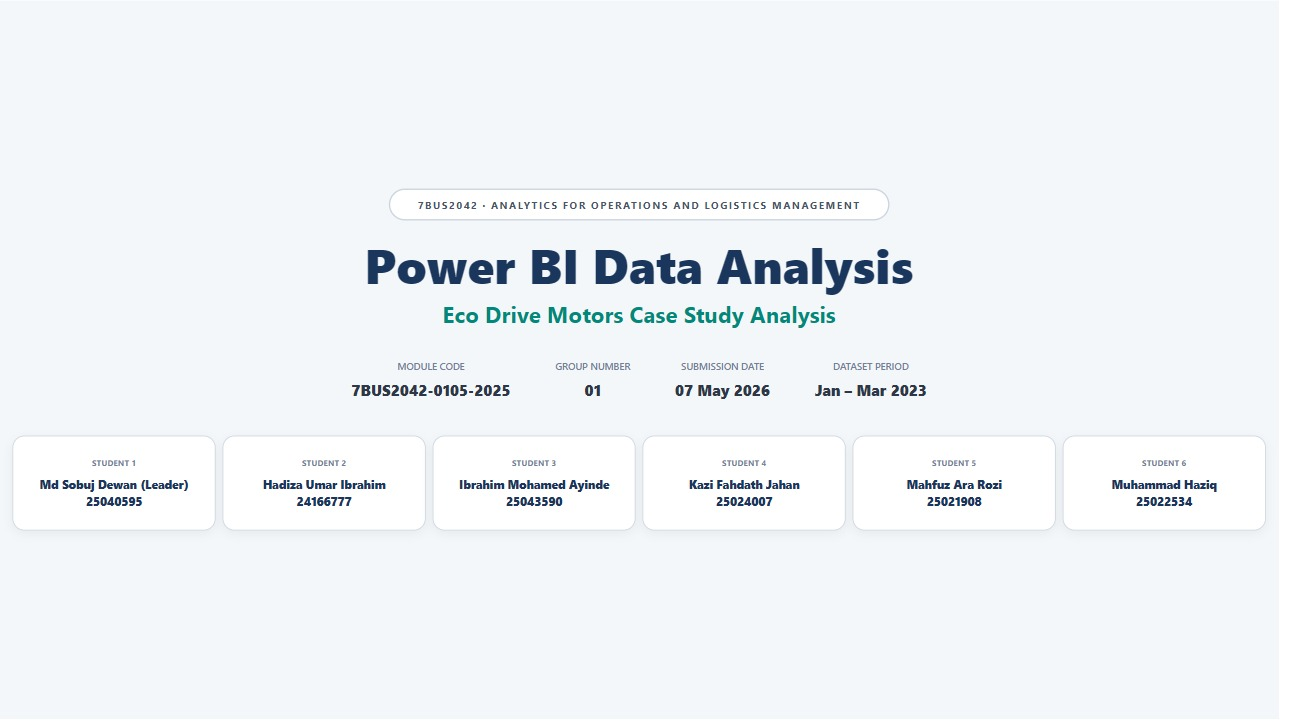

Layout of this report page (visuals, bound fields, positions):
{"tool":"powerbi","page":{"name":"Title Page","canvas":[3840,2160],"ordinal":0},"visuals":[{"type":"htmlContent443BE3AD55E043BF878BED274D3A6855","fields":{"content":["All_SVG_Measure.EcoDrive_Title_HTML"]},"box":[54.5,39.9,3715,2084.5],"z":0}]}

Visuals, with their boxes in screenshot pixels (x1, y1, x2, y2), scaled from the page's 3840x2160 canvas onto the 1292x726 screenshot:
htmlContent443BE3AD55E043BF878BED274D3A6855 - All_SVG_Measure.EcoDrive_Title_HTML: x1=18, y1=13, x2=1268, y2=714
